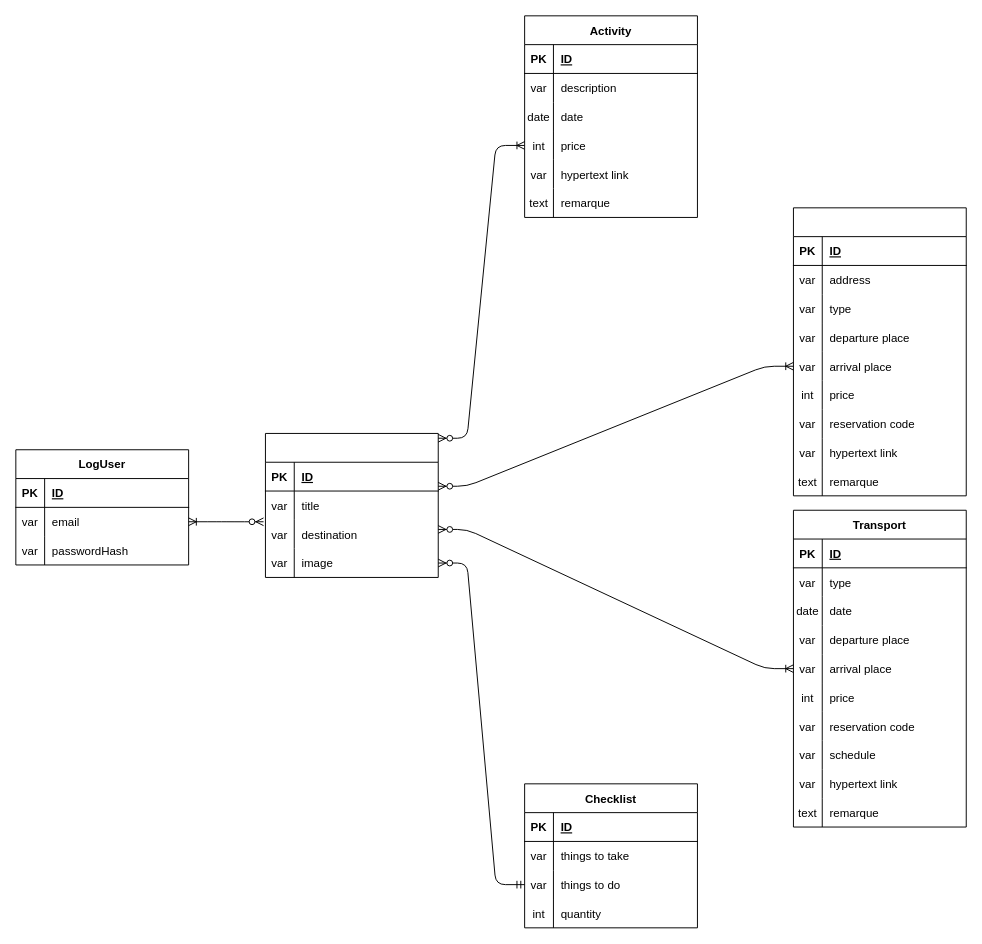
Some shapes in this 982 by 944 pixel diagram are drawn without their labels. The box of each missing label's shape, as (x1, y1, x2, y2) in pixels:
Lodging places: (792, 207, 966, 496)
Travel: (264, 432, 438, 577)
